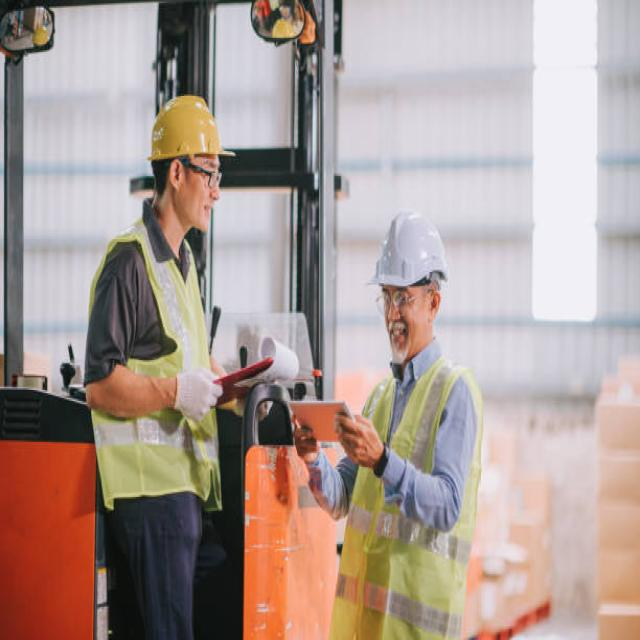Gloves: (170, 356, 227, 432)
Vest: (330, 356, 488, 640), (85, 213, 226, 520)
helmet: (361, 209, 448, 288), (141, 94, 237, 163)
person: (83, 93, 246, 640), (291, 212, 481, 639)
